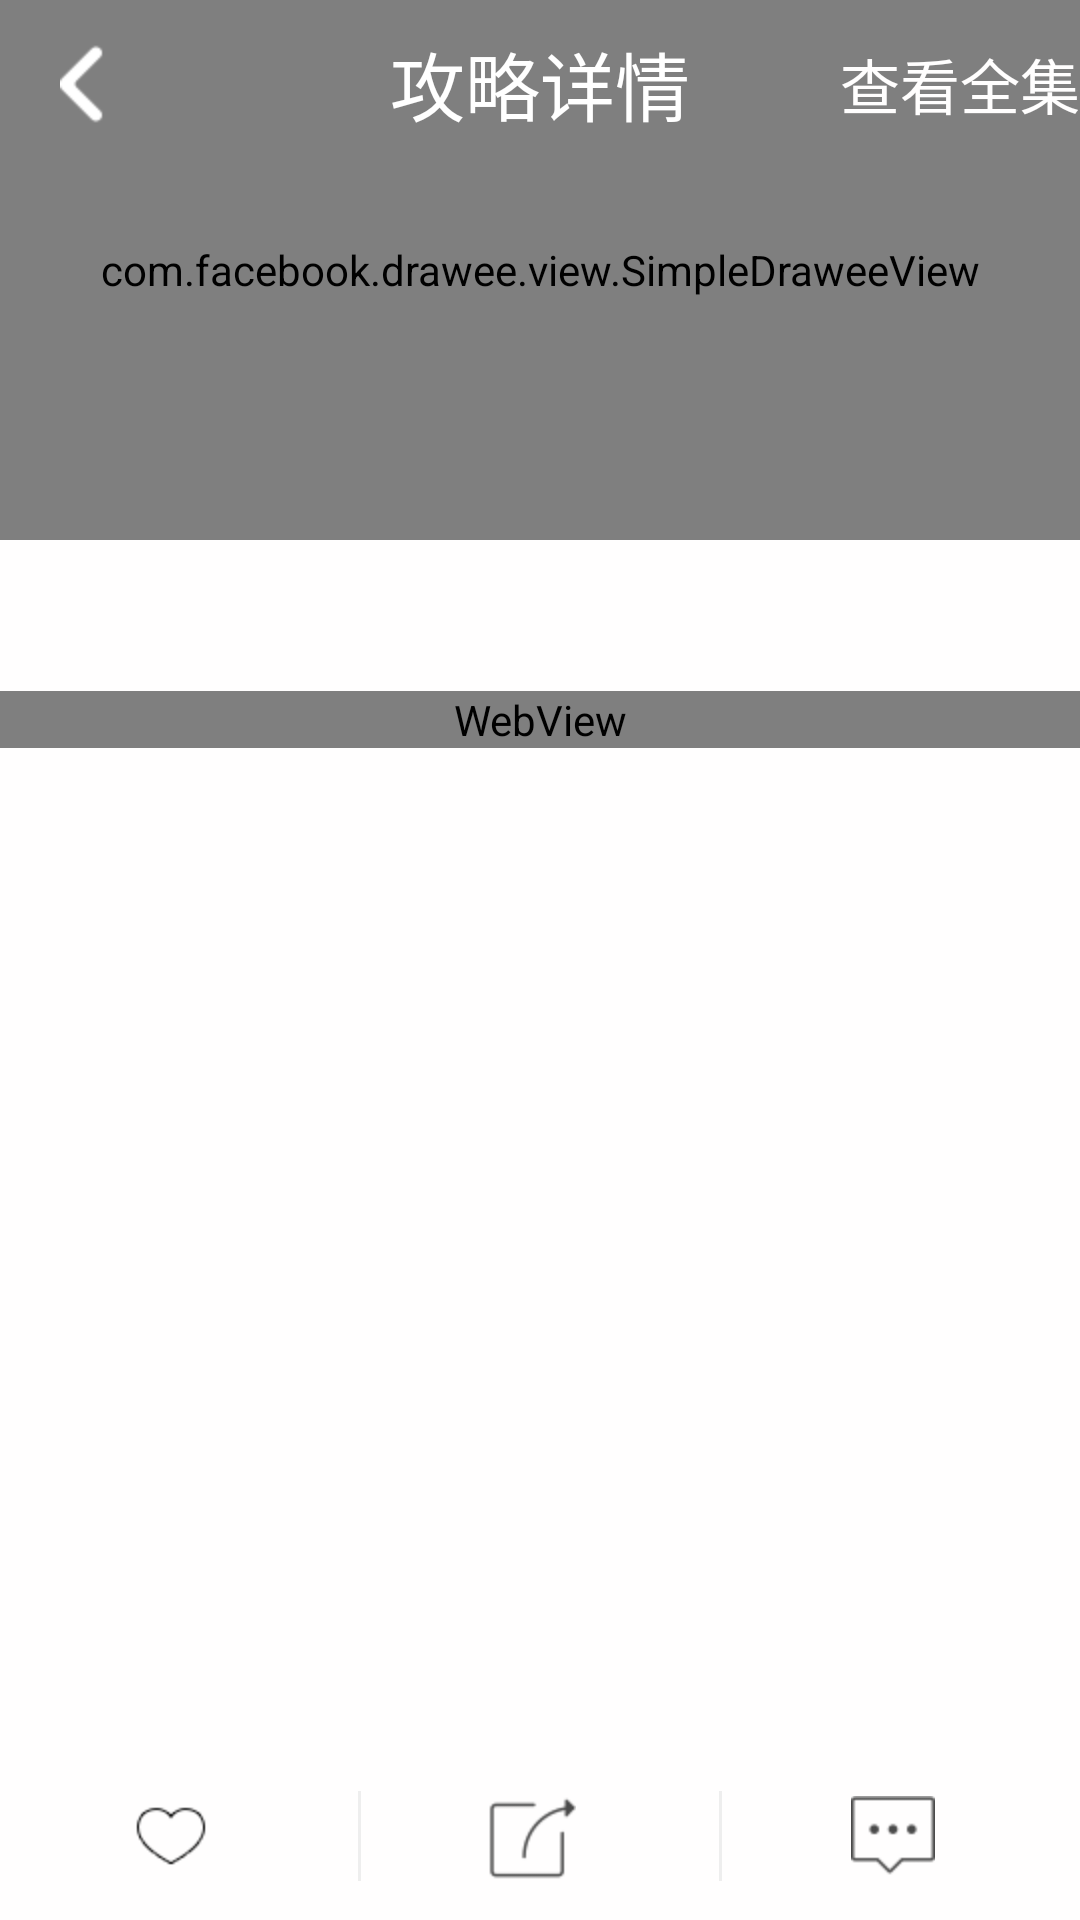

Named icons in this screenshot (1080w x 1920h) and their centers, point (x, y):
product back up: point (81, 84)
